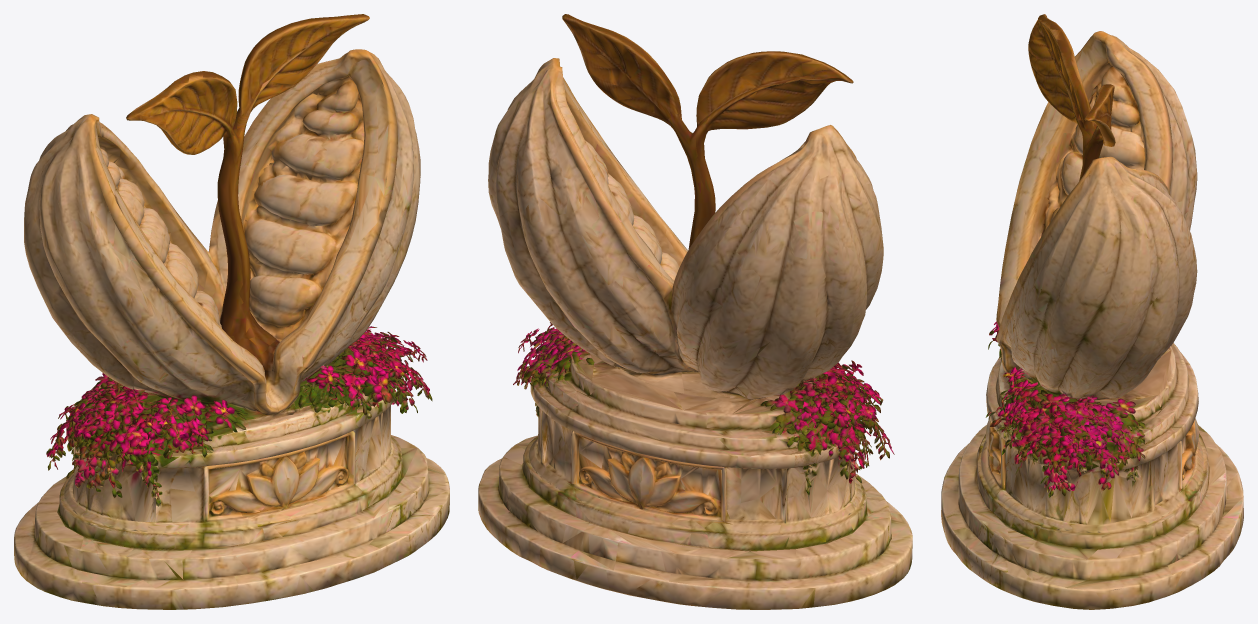
The model's file is esc-semilla.glb.
3 views of the same model, side by side, from view 1: azimuth 30°, elevation 25°; view 2: azimuth 150°, elevation 25°; view 3: azimuth 270°, elevation 25° (orthographic). The views are drawn at different scales.
Visible parts, largest first — view 1: Mesh_0; view 2: Mesh_0; view 3: Mesh_0.
Part boxes in pixels (x1,y1,x2,y2): Mesh_0: [14, 14, 449, 609]; Mesh_0: [478, 14, 912, 609]; Mesh_0: [941, 14, 1243, 609].
Bounding box in the file's own units: 1.66 × 1.9 × 1.13.
1 material, 1 textured.
